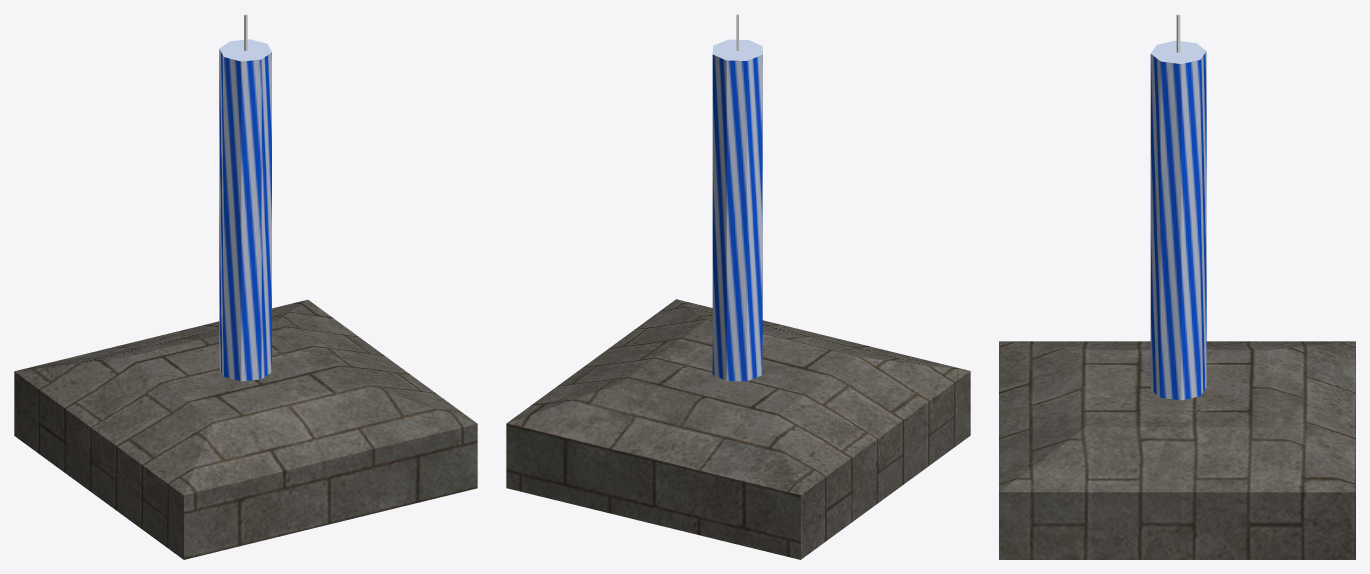
The model's file is Statue.fbx.
The picture shows the model from 3 angles, left to right: view 1: azimuth 30°, elevation 25°; view 2: azimuth 150°, elevation 25°; view 3: azimuth 270°, elevation 25°; orthographic projection. The views are drawn at different scales.
Visible parts, largest first — view 1: Cube, Candle (Slice).002; view 2: Cube, Candle (Slice).002; view 3: Cube, Candle (Slice).002.
Part boxes in pixels (x1,y1,x2,y2): Cube: [14, 299, 477, 559]; Candle (Slice).002: [219, 14, 271, 381]; Cube: [506, 299, 970, 559]; Candle (Slice).002: [712, 14, 762, 381]; Cube: [999, 341, 1355, 559]; Candle (Slice).002: [1150, 14, 1206, 400].
Size of the model in its own units: 153 by 222 by 153.
